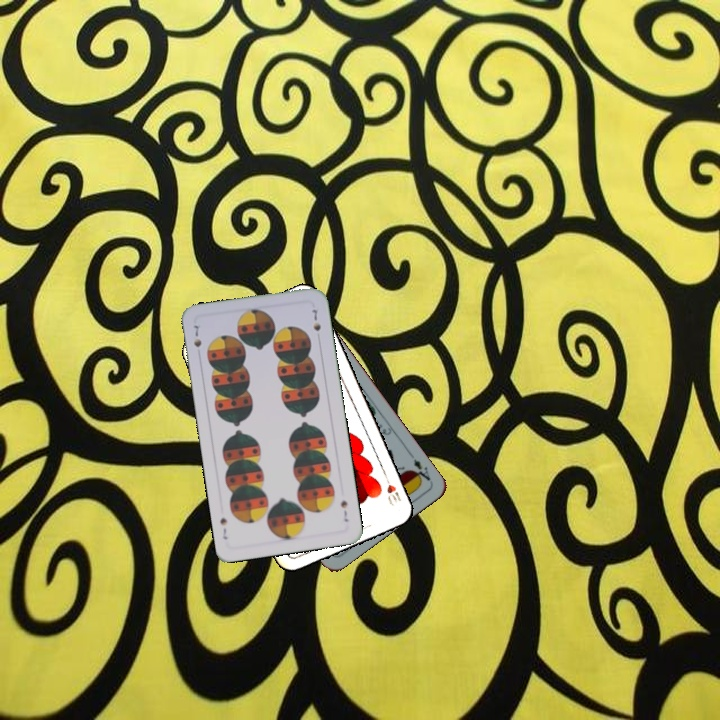EA: (405, 449, 433, 485)
H10: (380, 470, 404, 509)
S7: (189, 320, 204, 350), (337, 495, 351, 524)
